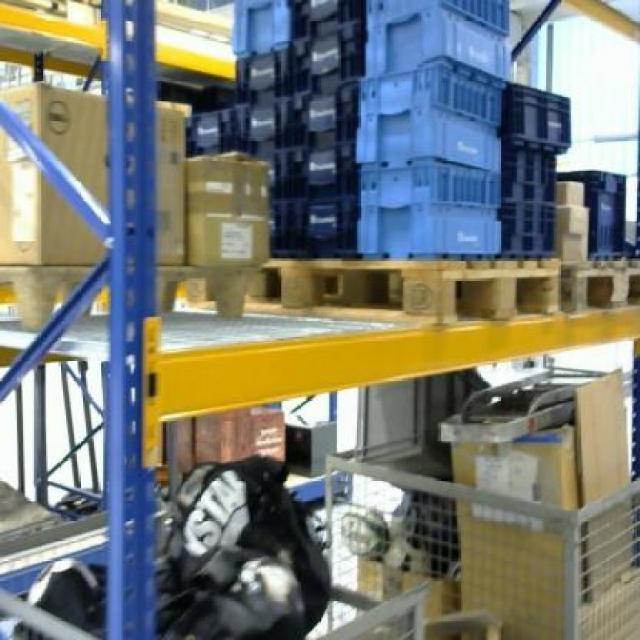box: (1, 86, 184, 262), (460, 437, 568, 611), (184, 155, 268, 263)
